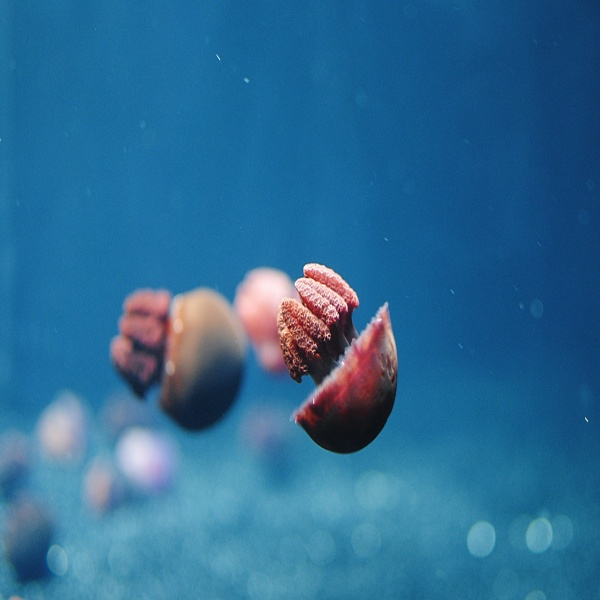Jellyfish: (268, 256, 393, 441), (109, 285, 246, 431), (231, 266, 297, 367)
